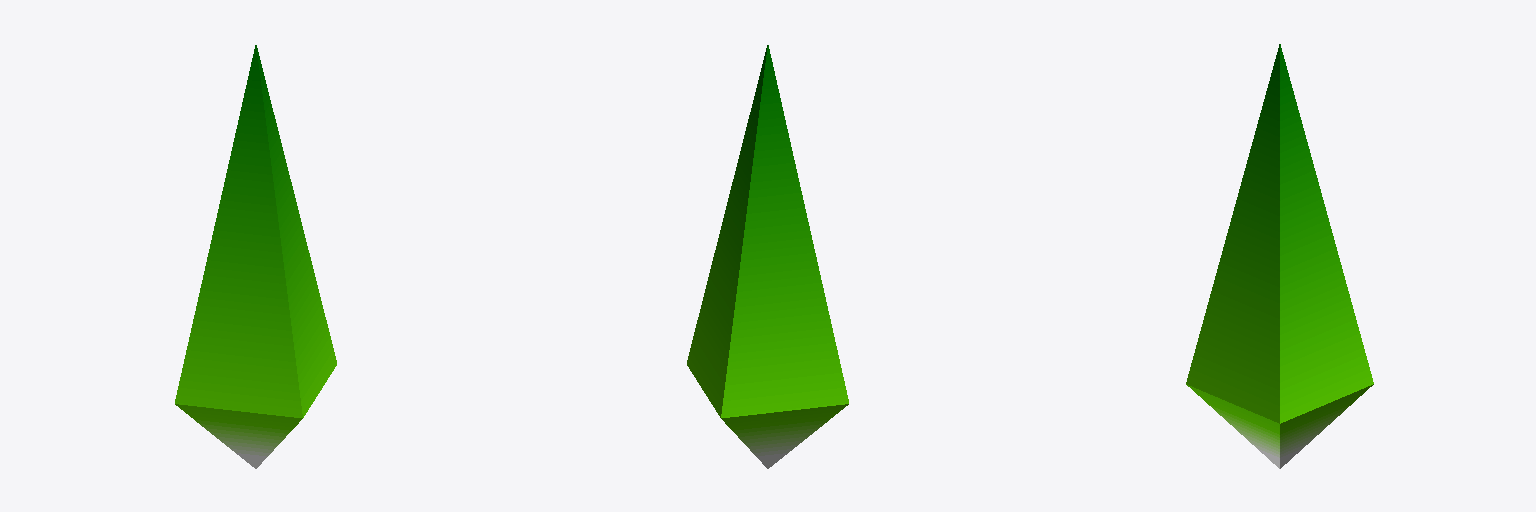
3 views of the same model, side by side, from view 1: azimuth 30°, elevation 25°; view 2: azimuth 150°, elevation 25°; view 3: azimuth 270°, elevation 25° (orthographic).
Visible parts, largest first — view 1: Red.002; view 2: Red.002; view 3: Red.002.
Part boxes in pixels (x1,y1,x2,y2): Red.002: (175, 45, 336, 468); Red.002: (687, 45, 848, 468); Red.002: (1186, 44, 1373, 468).
Size of the model in its own units: 1.89 by 4.73 by 1.89.
1 materials, 1 textured.